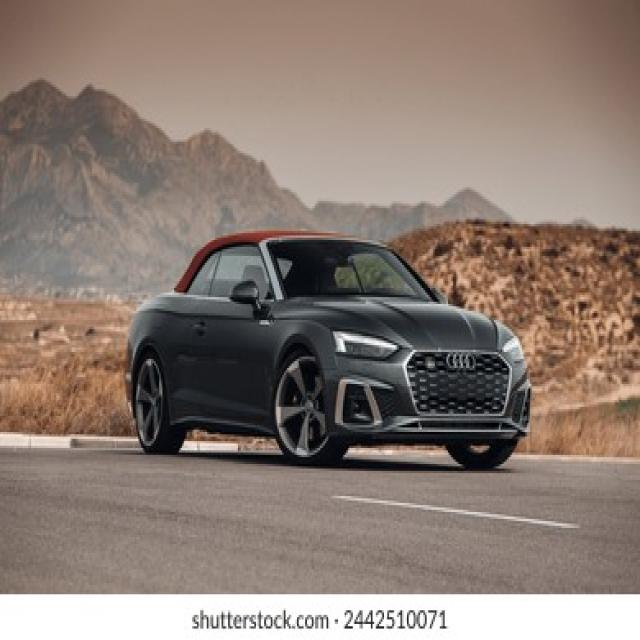audi: (446, 349, 478, 372)
